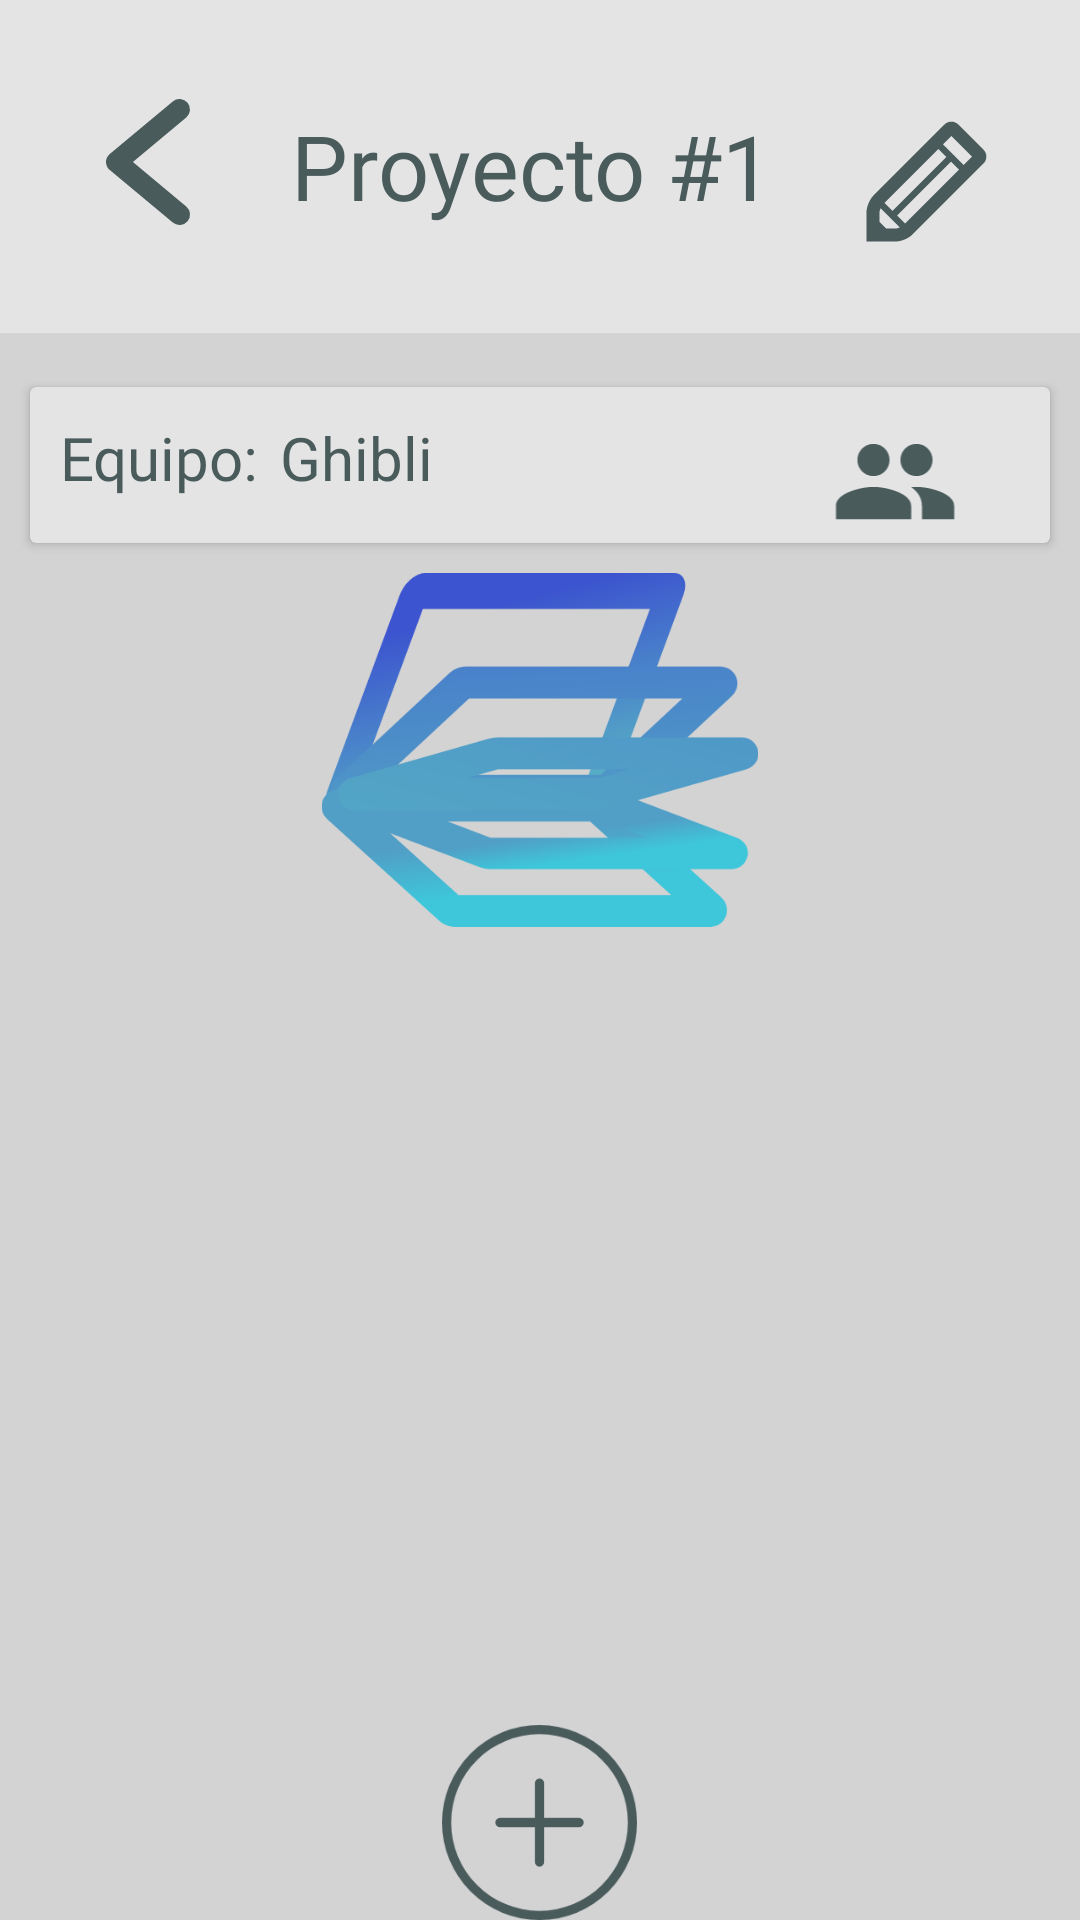

Icons on this 1080 x 1920 Android screen, each with its box as region(x1, y1, x2, y2):
add: region(442, 1725, 637, 1920)
Editar info del proyecto: region(866, 121, 987, 242)
Flecha hacia atras: region(106, 99, 190, 225)
